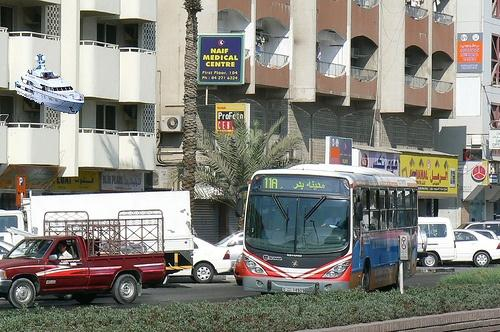tampered: (16, 55, 84, 114)
